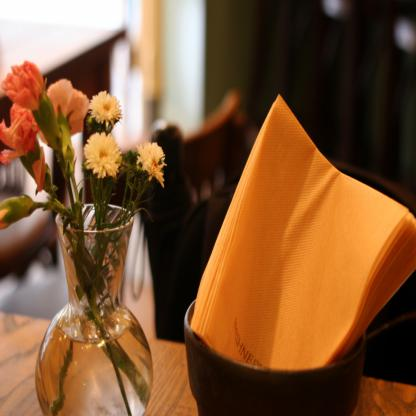vase: (34, 200, 154, 413)
